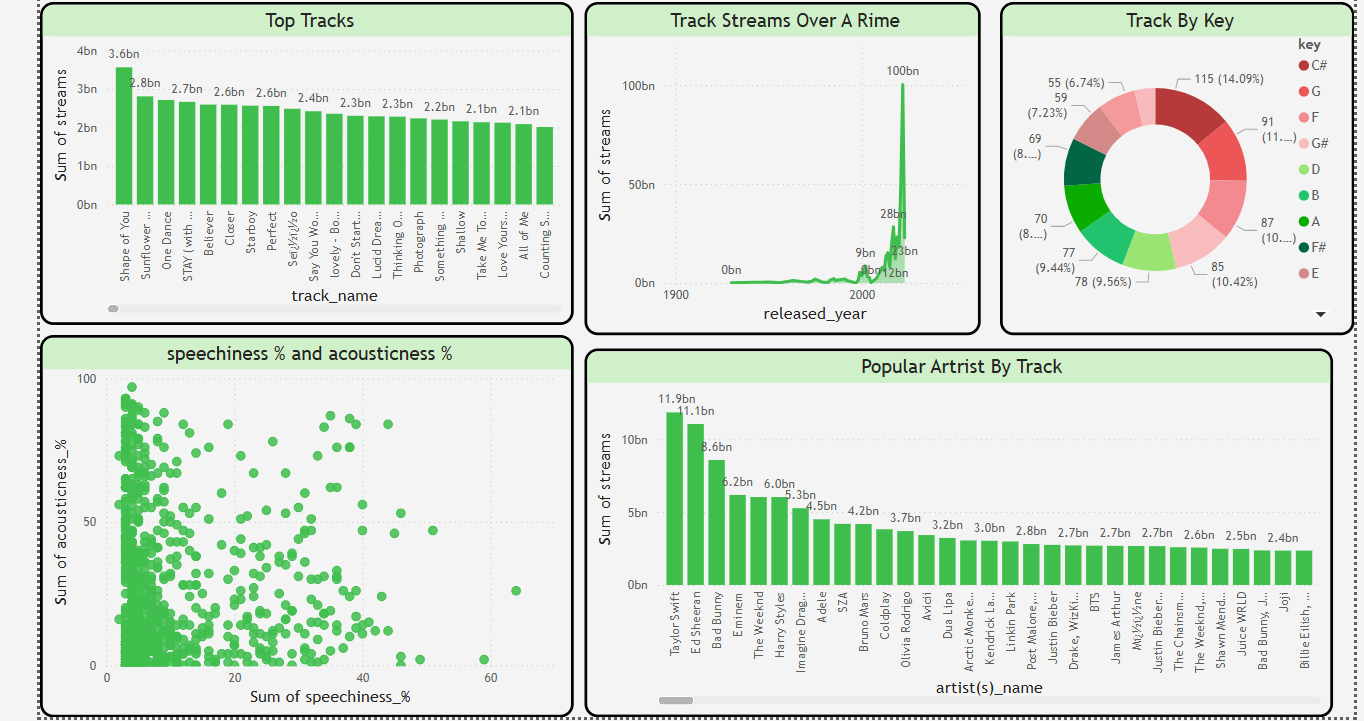

The dashboard page shown, as its layout file describes it:
{"tool":"powerbi","page":{"name":"Page 2","canvas":[1280,720],"ordinal":1},"visuals":[{"type":"clusteredColumnChart","title":"Top Tracks","fields":{"Category":["spotify-2023 csv.track_name"],"Y":["spotify-2023 csv.streams"]},"box":[0,23,520.3,314.9],"z":0},{"type":"scatterChart","title":"speechiness % and acousticness % ","fields":{"Category":["spotify-2023 csv.streams"],"X":["spotify-2023 csv.speechiness_%"],"Y":["spotify-2023 csv.acousticness_%"]},"box":[0,347.5,520.3,372.5],"z":1000},{"type":"areaChart","title":"Track Streams Over A Rime","fields":{"Category":["spotify-2023 csv.released_year"],"Y":["spotify-2023 csv.streams"]},"box":[529.9,23,385.9,324.5],"z":2000},{"type":"columnChart","title":"Popular Artrist By Track ","fields":{"Category":["spotify-2023 csv.artist(s)_name"],"Y":["spotify-2023 csv.streams"]},"box":[529.9,361,729.6,359],"z":3000},{"type":"donutChart","title":" Track  By Key","fields":{"Category":["spotify-2023 csv.key"],"Y":["spotify-2023 csv.track_name"]},"box":[935,23,345.6,324.5],"z":4000}]}

Visuals, with their boxes in screenshot pixels (x1, y1, x2, y2):
"Top Tracks" clusteredColumnChart: select_region(36, 0, 568, 321)
"speechiness % and acousticness % " scatterChart: select_region(36, 331, 568, 712)
"Track Streams Over A Rime" areaChart: select_region(578, 0, 973, 331)
"Popular Artrist By Track " columnChart: select_region(578, 345, 1325, 712)
" Track  By Key" donutChart: select_region(993, 0, 1347, 331)
